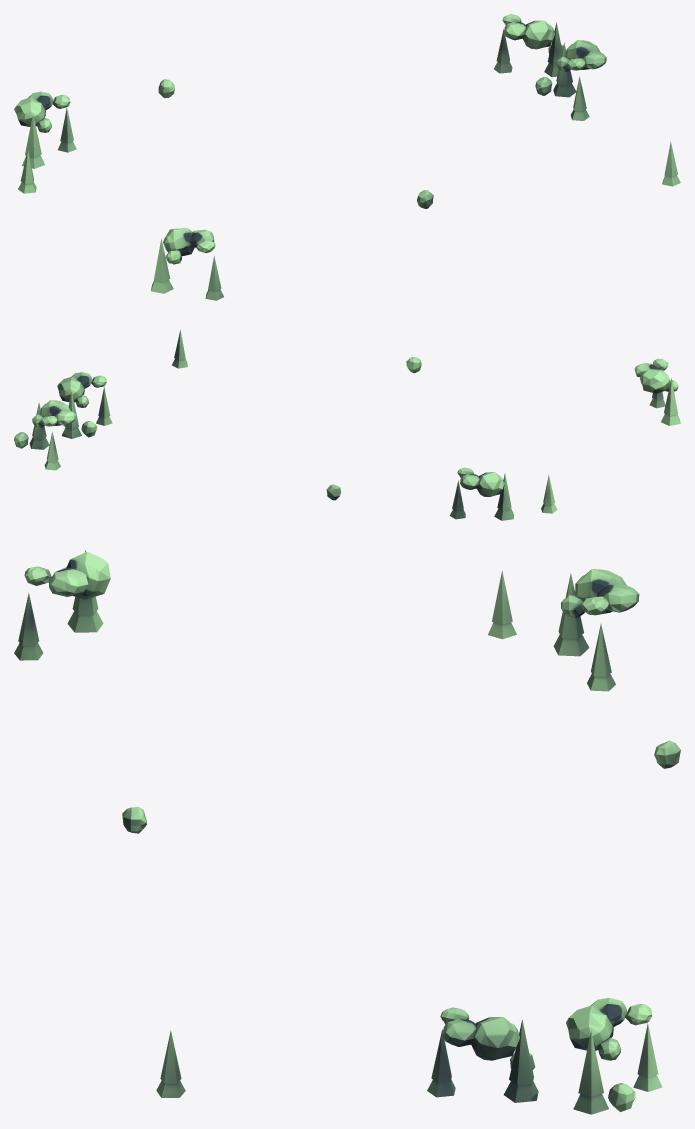
The model's file is Wood_01.FBX.
3 renders of one model, top to bottom at view 1: azimuth 30°, elevation 25°; view 2: azimuth 150°, elevation 25°; view 3: azimuth 270°, elevation 25°, orthographic. The views are drawn at different scales.
Visible parts, largest first — view 1: Wood_01; view 2: Wood_01; view 3: Wood_01.
Part boxes in pixels (<box>): Wood_01: <box>14,14,680,300</box>; Wood_01: <box>14,329,680,520</box>; Wood_01: <box>14,550,680,1114</box>.
Size of the model in its own units: 38.01 by 6.2 by 24.54.
